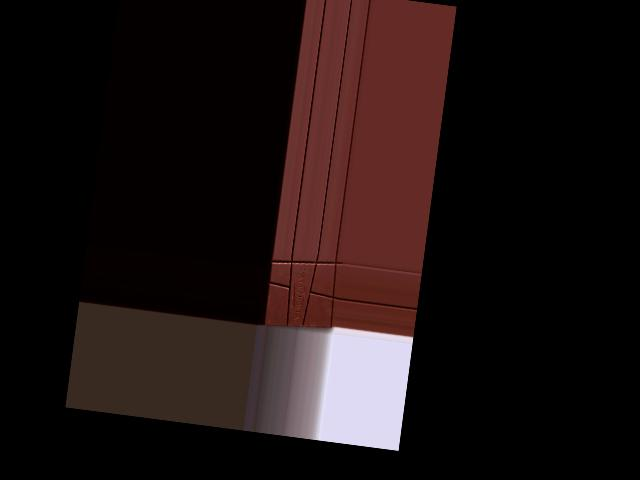chocolate: (259, 248, 343, 335)
